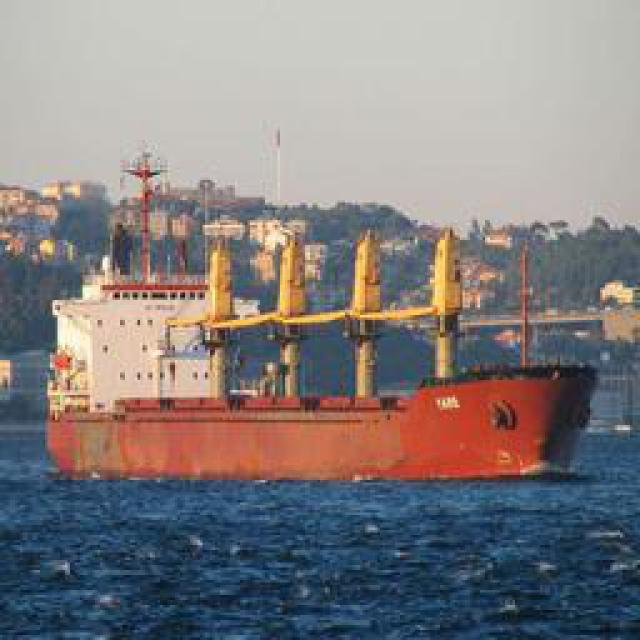Ship: (23, 181, 601, 491)
